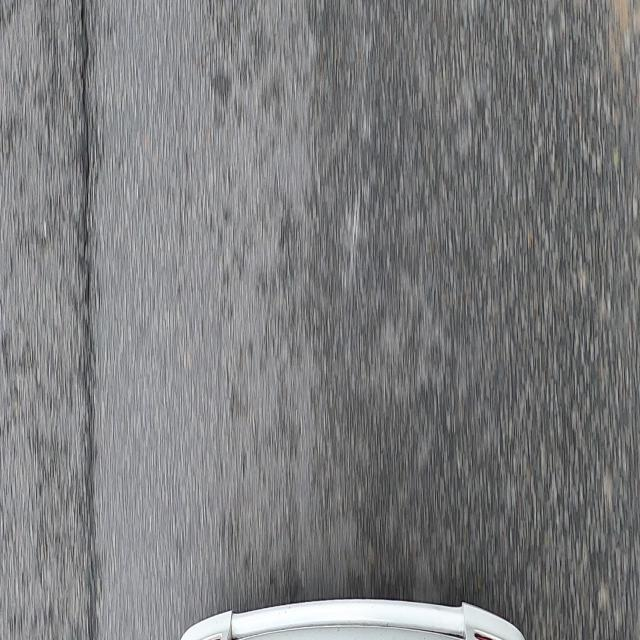Retak-Memanjang: (79, 0, 95, 474)
